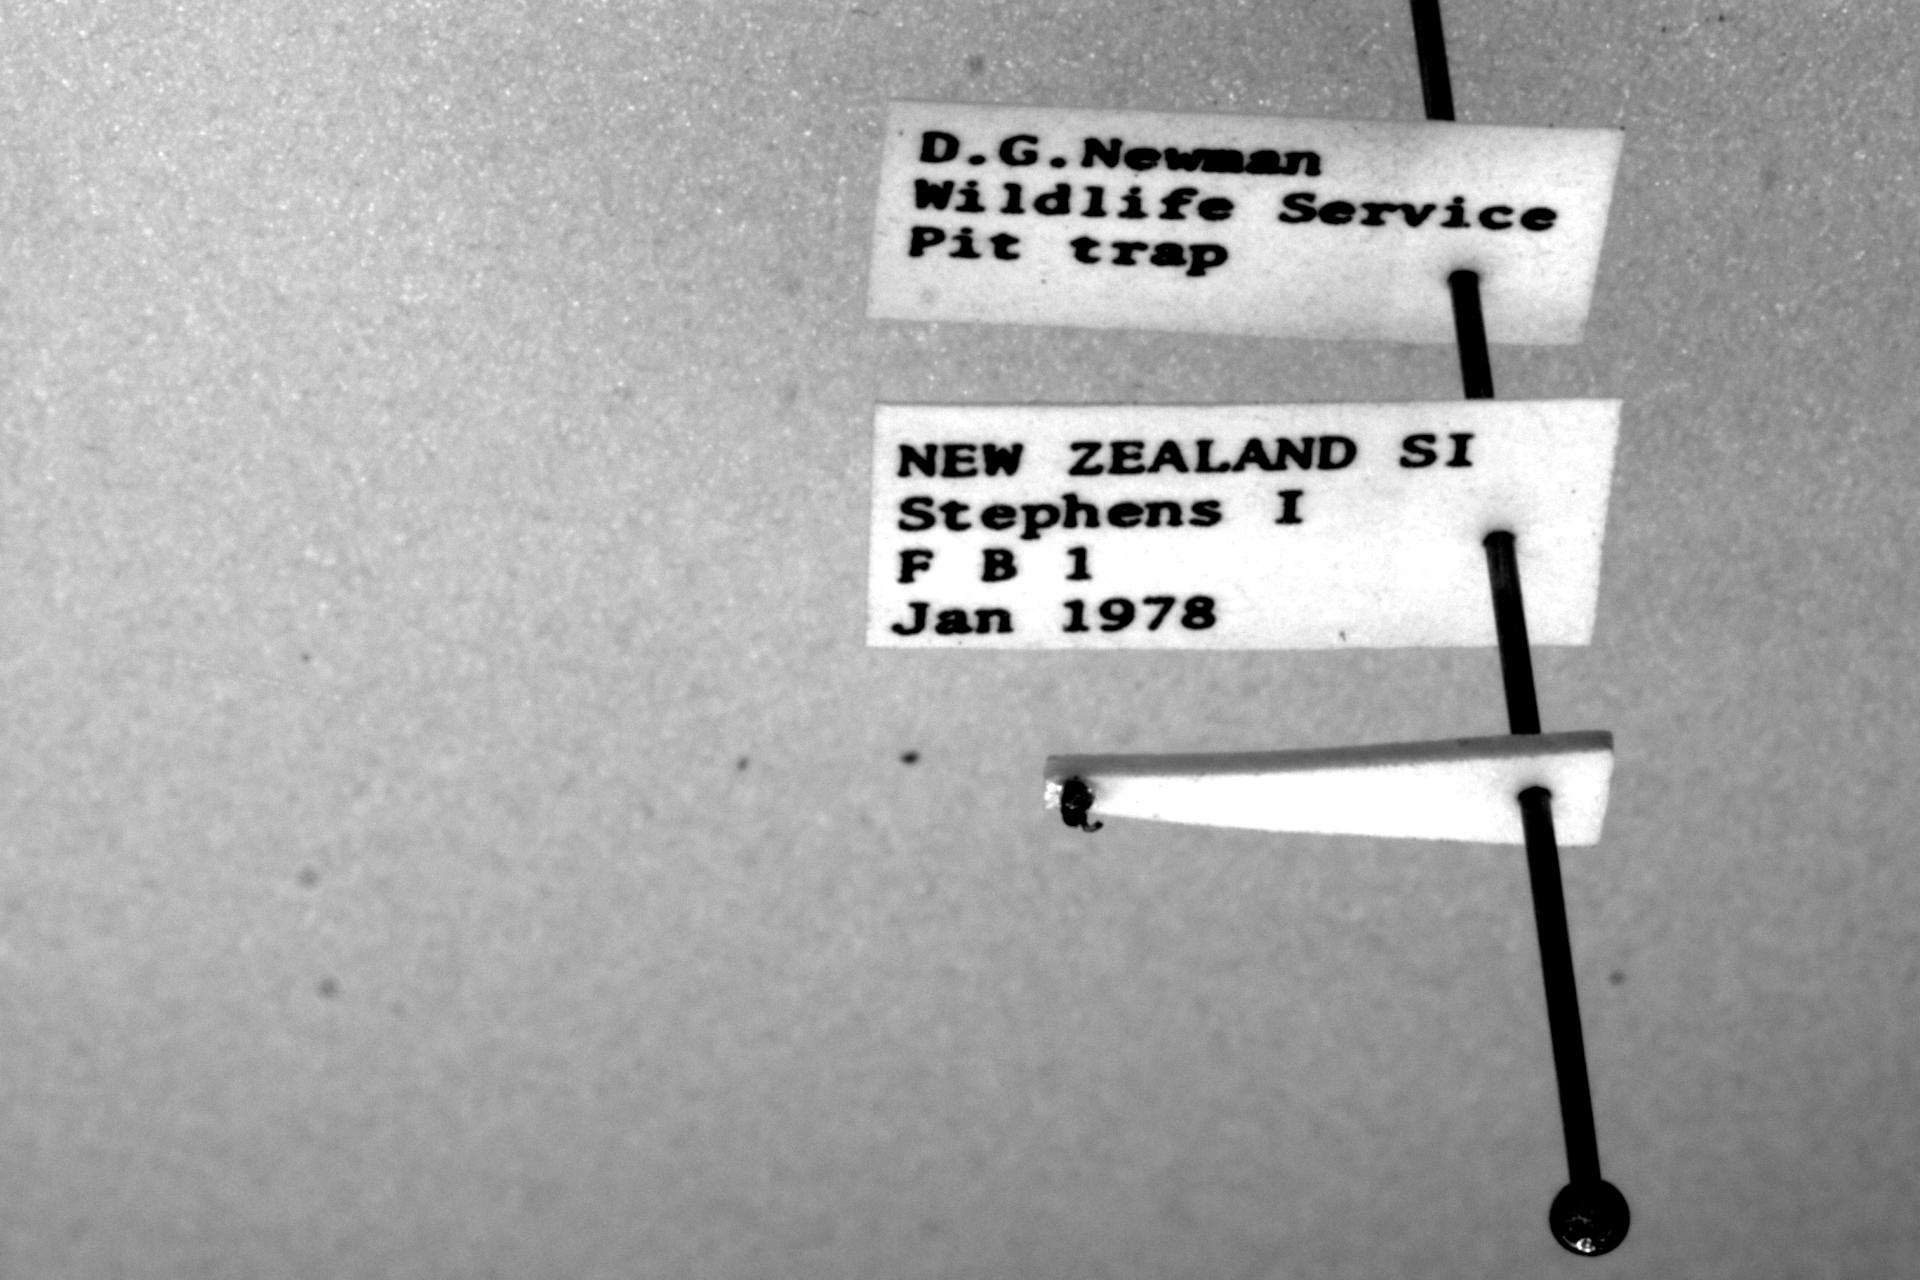typed_label: (866, 401, 1620, 649), (870, 101, 1624, 346)
